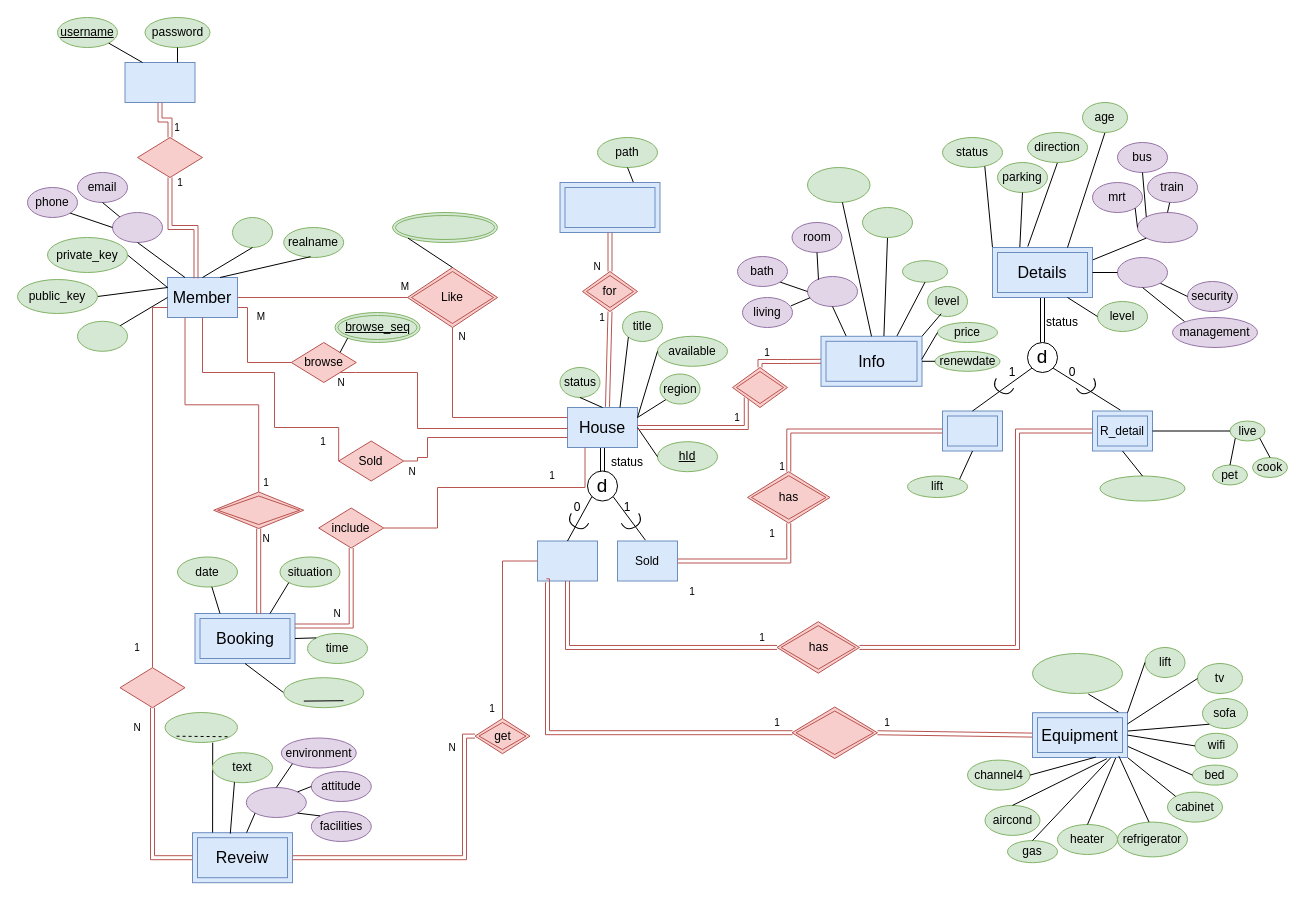
Image size: 1305x901. Some labels were removed from this diagram. Each missing label, with the box of its shape:
address: (806, 166, 870, 202)
basic: (1116, 256, 1168, 288)
belongs: (791, 706, 878, 758)
booing_seq: (283, 677, 364, 708)
contact: (112, 212, 162, 242)
favourite_seq: (392, 212, 498, 242)
gender: (76, 320, 128, 351)
give: (119, 667, 185, 708)
Image: (559, 182, 660, 232)
Loginas: (136, 136, 202, 178)
make: (213, 491, 304, 528)
mId: (232, 216, 272, 248)
of: (732, 366, 788, 408)
pattern: (806, 276, 858, 306)
period: (1099, 475, 1185, 501)
rating: (245, 786, 306, 818)
Rent: (536, 540, 598, 581)
review_seq: (164, 712, 238, 742)
S_detail: (942, 410, 1002, 451)
size: (902, 260, 948, 282)
transport: (1136, 212, 1198, 242)
type: (862, 206, 912, 238)
User: (124, 62, 195, 102)
washer: (1032, 652, 1122, 694)
